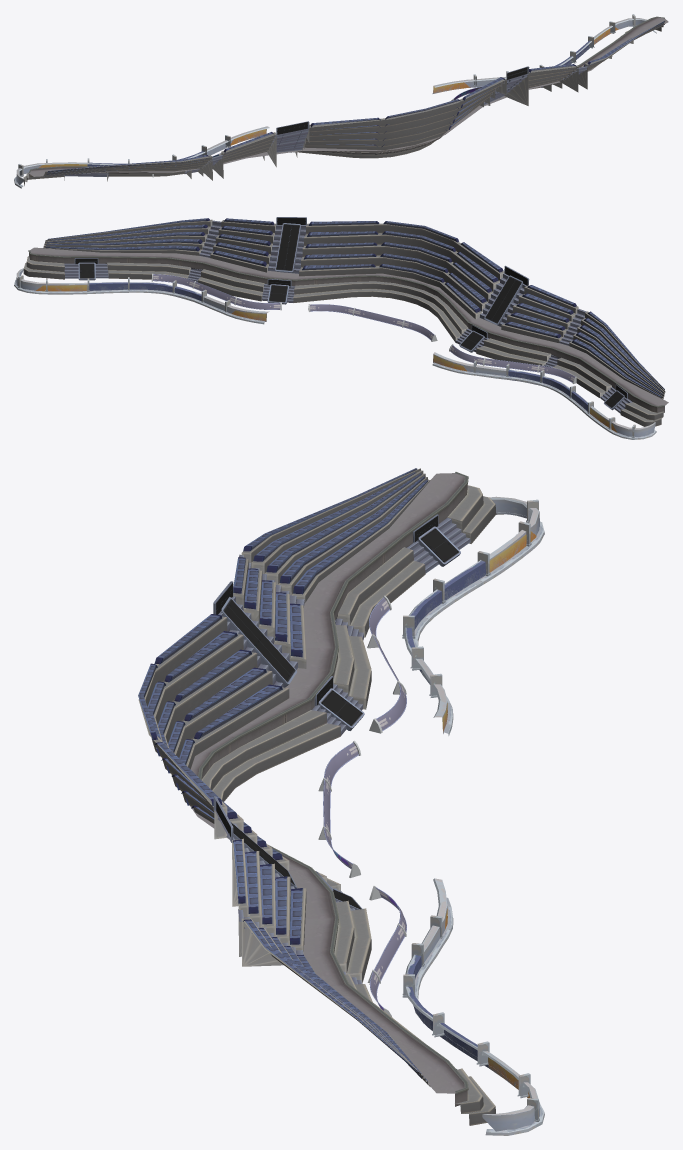
Rendered from pref_sm_beach_bk_winter_pointmol_topbuild03_lv1.fbx.
The picture shows the model from 3 angles, top to bottom: view 1: azimuth 30°, elevation 25°; view 2: azimuth 150°, elevation 25°; view 3: azimuth 270°, elevation 25°; orthographic projection. The views are drawn at different scales.
Parts seen in each view (by area): view 1: sm_beach_bk_winter_pointmol_topbuild03c_lv1, sm_beach_bk_winter_pointmol_topbuild03a_lv1, sm_beach_bk_winter_pointmol_topbuild03e_lv1, sm_beach_bk_winter_pointmol_topbuild03d_lv1; view 2: sm_beach_bk_winter_pointmol_topbuild03e_lv1, sm_beach_bk_winter_pointmol_topbuild03c_lv1, sm_beach_bk_winter_pointmol_topbuild03a_lv1, sm_beach_bk_winter_pointmol_topbuild03d_lv1, sm_beach_bk_winter_pointmol_topbuild03b_lv1; view 3: sm_beach_bk_winter_pointmol_topbuild03a_lv1, sm_beach_bk_winter_pointmol_topbuild03c_lv1, sm_beach_bk_winter_pointmol_topbuild03e_lv1, sm_beach_bk_winter_pointmol_topbuild03d_lv1, sm_beach_bk_winter_pointmol_topbuild03b_lv1.
Boxes of the visible parts, bbox=[...] form: sm_beach_bk_winter_pointmol_topbuild03c_lv1: bbox=[295, 77, 506, 158]; sm_beach_bk_winter_pointmol_topbuild03a_lv1: bbox=[23, 121, 309, 185]; sm_beach_bk_winter_pointmol_topbuild03e_lv1: bbox=[484, 16, 668, 106]; sm_beach_bk_winter_pointmol_topbuild03d_lv1: bbox=[14, 14, 656, 188]; sm_beach_bk_winter_pointmol_topbuild03e_lv1: bbox=[23, 217, 306, 304]; sm_beach_bk_winter_pointmol_topbuild03c_lv1: bbox=[293, 221, 504, 342]; sm_beach_bk_winter_pointmol_topbuild03a_lv1: bbox=[455, 265, 668, 426]; sm_beach_bk_winter_pointmol_topbuild03d_lv1: bbox=[14, 268, 656, 439]; sm_beach_bk_winter_pointmol_topbuild03b_lv1: bbox=[151, 273, 576, 383]; sm_beach_bk_winter_pointmol_topbuild03a_lv1: bbox=[213, 468, 496, 735]; sm_beach_bk_winter_pointmol_topbuild03c_lv1: bbox=[138, 614, 340, 890]; sm_beach_bk_winter_pointmol_topbuild03e_lv1: bbox=[213, 796, 495, 1125]; sm_beach_bk_winter_pointmol_topbuild03d_lv1: bbox=[402, 496, 544, 1135]; sm_beach_bk_winter_pointmol_topbuild03b_lv1: bbox=[318, 595, 406, 1016].
Bounding box in the file's own units: 125 × 12.25 × 34.61.
